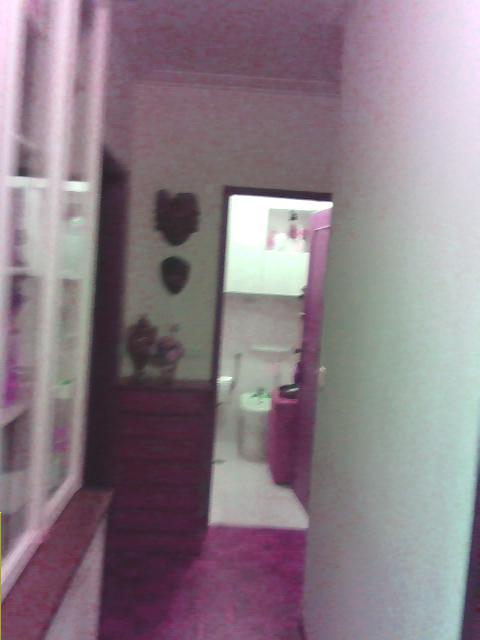open_door: (201, 183, 332, 529)
